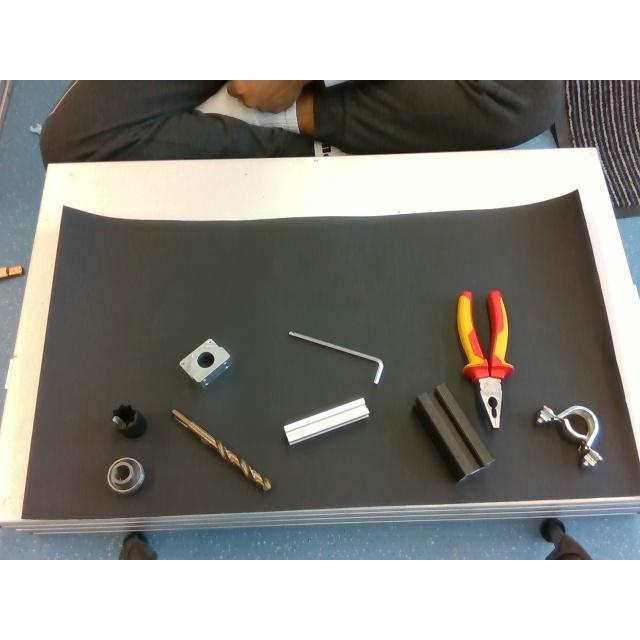Bearing2: (107, 458, 145, 494)
Drill: (170, 408, 270, 492)
F20_20_G: (284, 396, 368, 444)
Housing: (536, 404, 602, 466)
S40_40_B: (414, 382, 494, 482)
